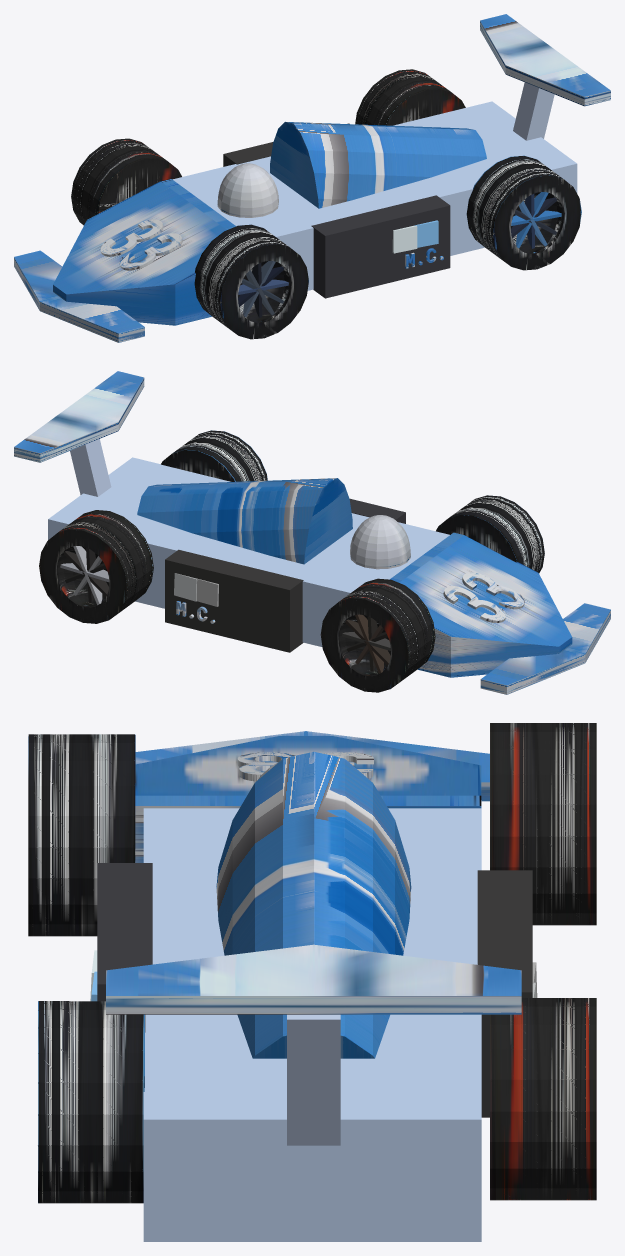
3 renders of one model, top to bottom at view 1: azimuth 30°, elevation 25°; view 2: azimuth 150°, elevation 25°; view 3: azimuth 270°, elevation 25°, orthographic. The views are drawn at different scales.
Visible parts, largest first — view 1: mvadapter_node_0000_a6cd451fa7a9428099429ad5225b1f77; view 2: mvadapter_node_0000_a6cd451fa7a9428099429ad5225b1f77; view 3: mvadapter_node_0000_a6cd451fa7a9428099429ad5225b1f77.
Boxes of the visible parts, x1,y1,x2,y2 form: mvadapter_node_0000_a6cd451fa7a9428099429ad5225b1f77: (14,14,610,342); mvadapter_node_0000_a6cd451fa7a9428099429ad5225b1f77: (14,371,610,694); mvadapter_node_0000_a6cd451fa7a9428099429ad5225b1f77: (28,723,596,1241).
Bounding box in the file's own units: 1 × 0.2645 × 0.4759.
1 material, 1 textured.
